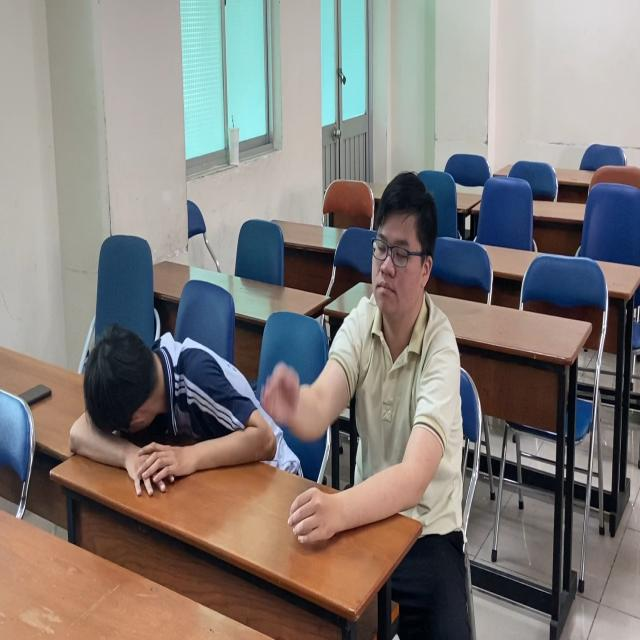sleep: (49, 288, 283, 521)
